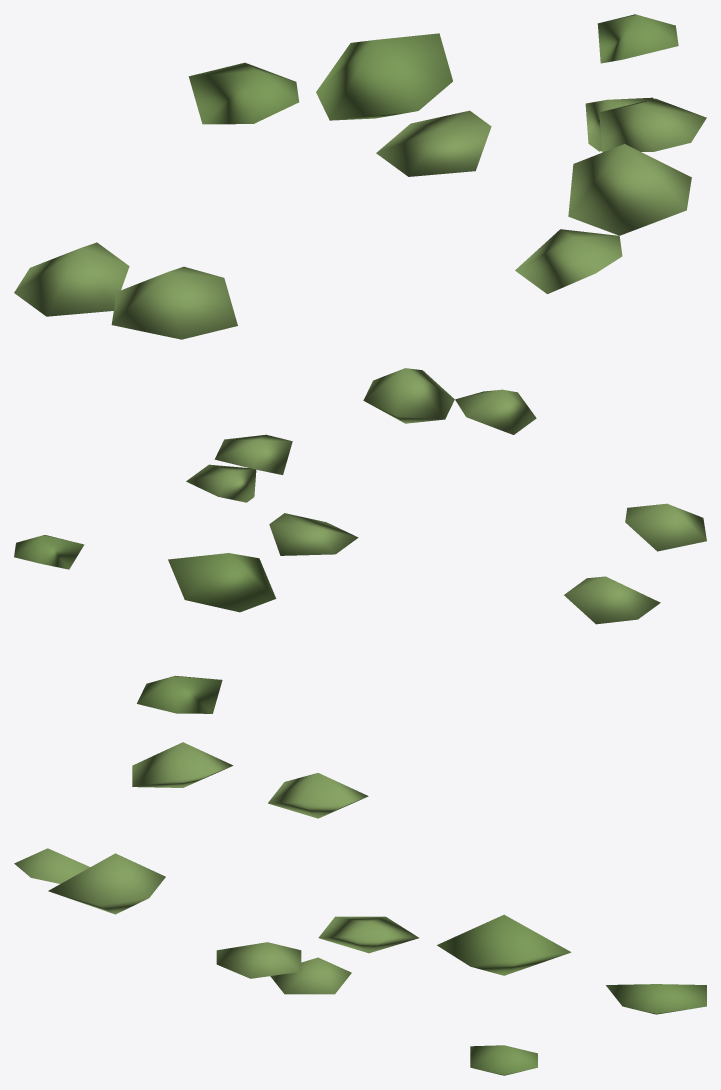
Rendered from canopy-2--1--17.glb.
3 views of the same model, one above another, from view 1: azimuth 30°, elevation 25°; view 2: azimuth 150°, elevation 25°; view 3: azimuth 270°, elevation 25° (orthographic). The views are drawn at different scales.
Bounding box in the file's own units: 102 × 27.5 × 102.
1 material, 1 textured.
